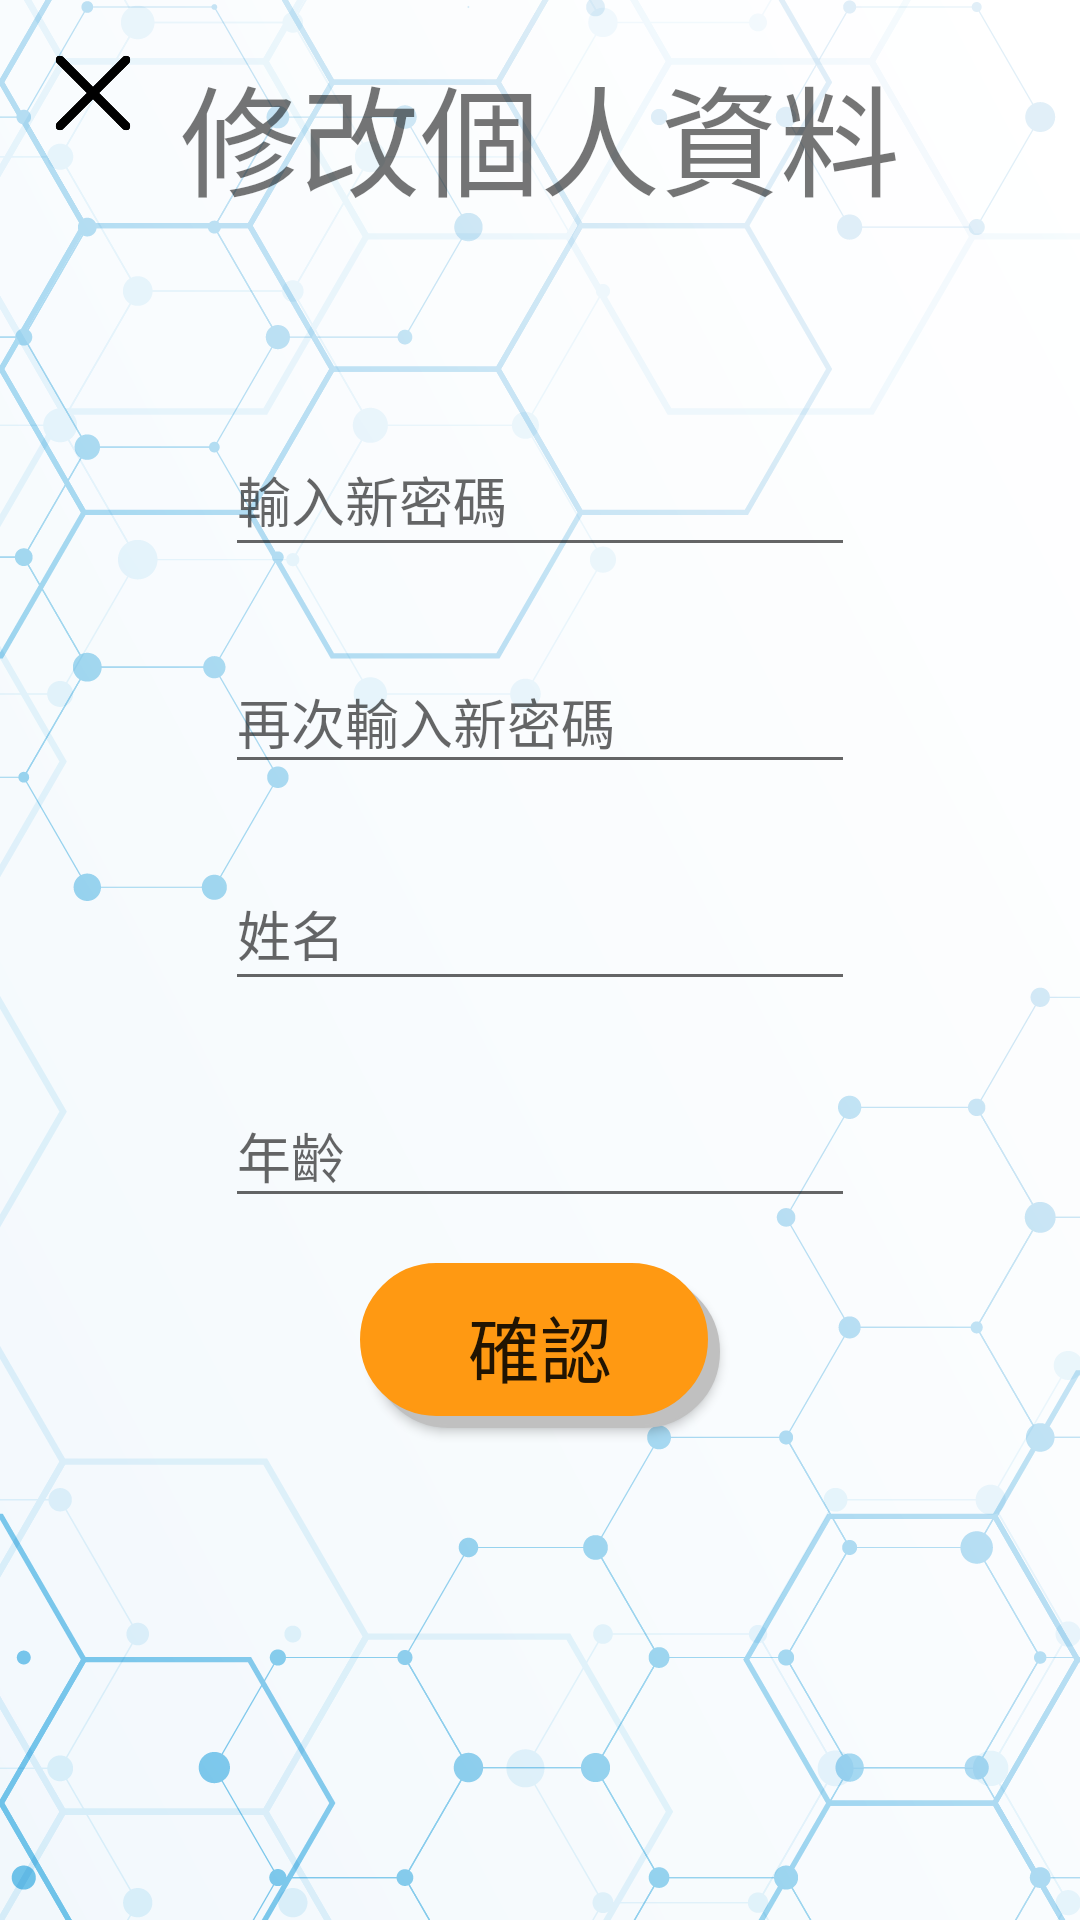

Icons on this 1080x1920 Android screen, each with the point to tap as [x,y]:
delete: [89,89]
